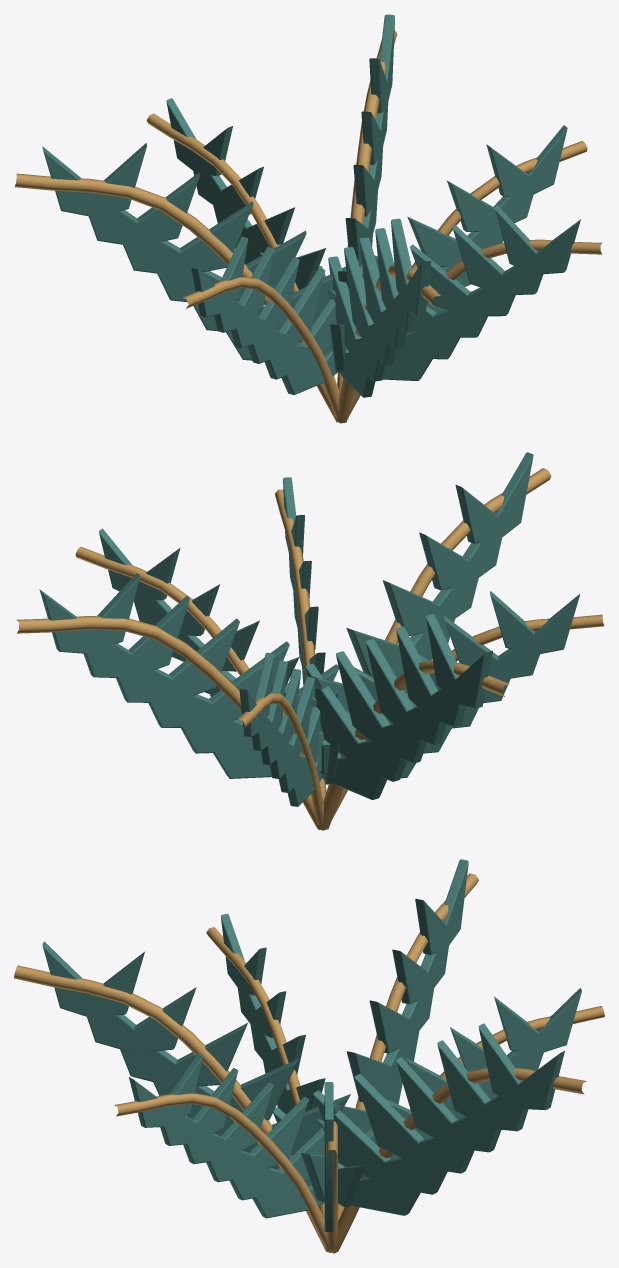
File: moonsteel-convergence-silverleaf-fern-518d2c57__18191.glb
3 renders of one model, top to bottom at view 1: azimuth 30°, elevation 25°; view 2: azimuth 150°, elevation 25°; view 3: azimuth 270°, elevation 25°, orthographic.
Visible parts, largest first — view 1: silverleaf-fern; view 2: silverleaf-fern; view 3: silverleaf-fern.
Part boxes in pixels (x1,y1,x2,y2): silverleaf-fern: (14, 14, 602, 423); silverleaf-fern: (16, 452, 604, 830); silverleaf-fern: (14, 859, 604, 1253).
Bounding box in the file's own units: 1.49 × 0.7964 × 1.53.
